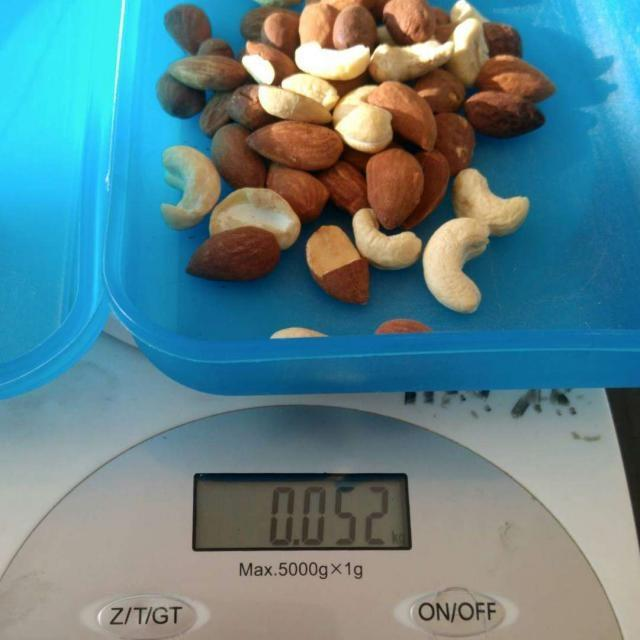mixed-nuts: (154, 9, 552, 318)
